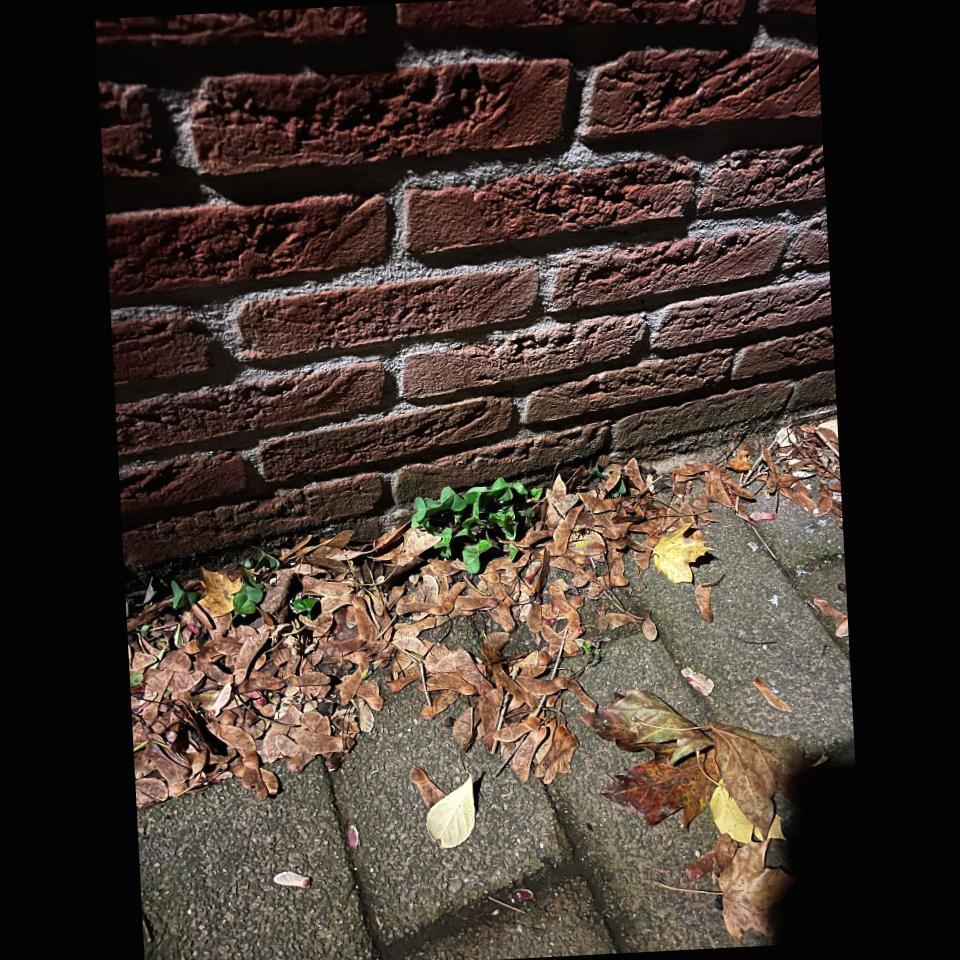weed: (412, 478, 540, 573), (233, 582, 263, 614), (171, 581, 202, 611), (292, 596, 318, 619)
